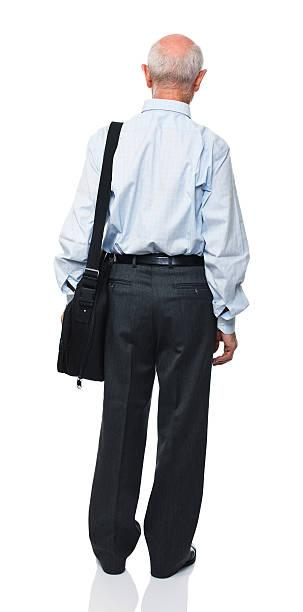Human: (54, 29, 260, 594)
